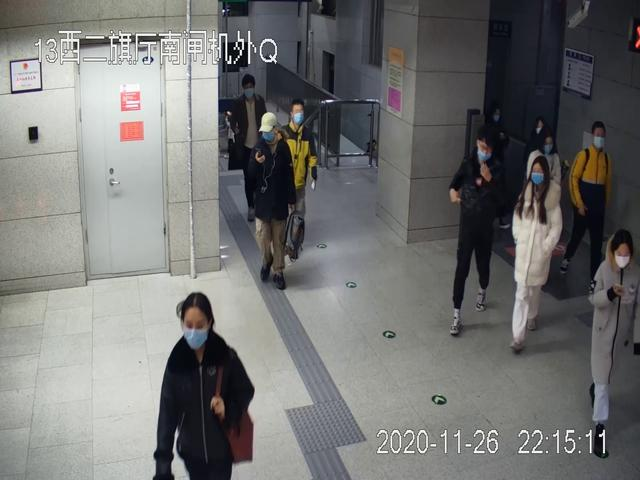person: (152, 292, 255, 480), (588, 229, 640, 460), (244, 112, 305, 289), (447, 127, 497, 335), (509, 155, 562, 351), (559, 122, 611, 283), (272, 101, 317, 255), (228, 74, 266, 222)
